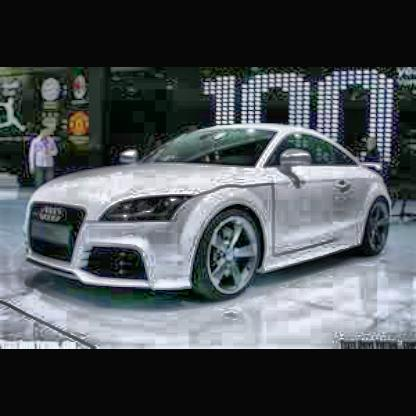Audi TT RS Coupe 2012: (22, 122, 390, 300)
